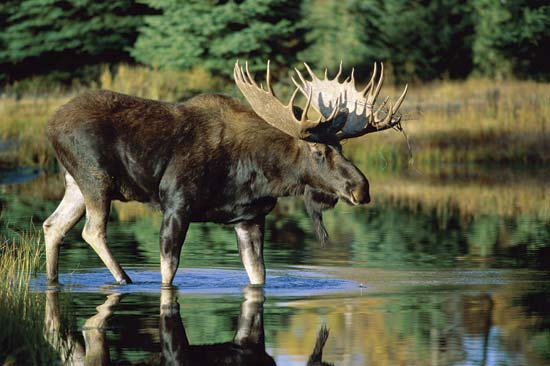moose: (35, 52, 412, 288)
